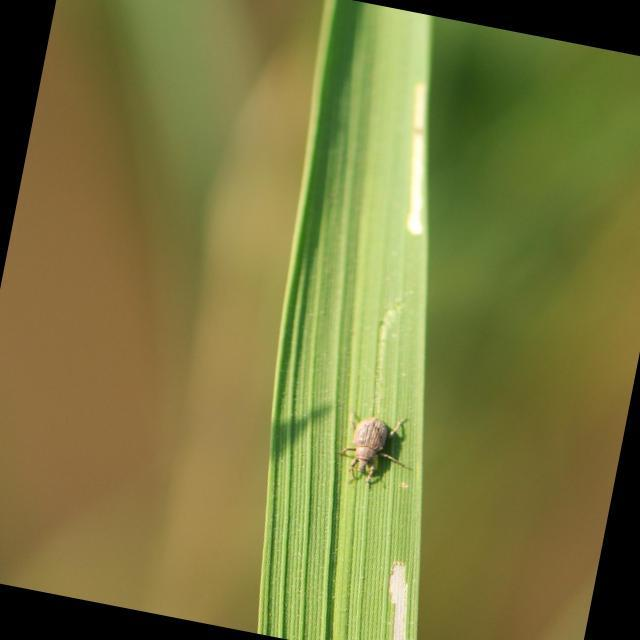ricebug: (342, 417, 404, 484)
